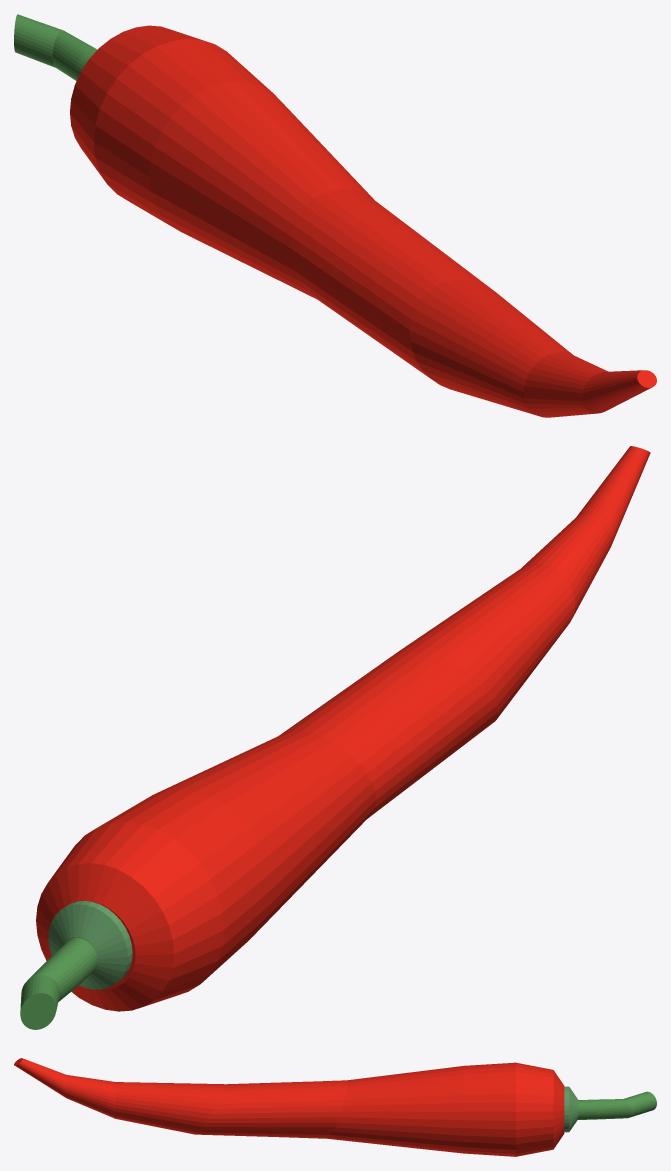
The model's file is cabe.fbx.
The picture shows the model from 3 angles, top to bottom: view 1: azimuth 30°, elevation 25°; view 2: azimuth 150°, elevation 25°; view 3: azimuth 270°, elevation 25°; orthographic projection. The views are drawn at different scales.
Parts seen in each view (by area): view 1: Cylinder, Cylinder.002; view 2: Cylinder, Cylinder.001, Cylinder.002; view 3: Cylinder, Cylinder.002, Cylinder.001.
Part boxes in pixels (bbox=[...]): Cylinder: bbox=[70, 25, 656, 417]; Cylinder.002: bbox=[14, 14, 97, 80]; Cylinder: bbox=[36, 446, 650, 1011]; Cylinder.001: bbox=[48, 901, 132, 989]; Cylinder.002: bbox=[20, 937, 97, 1029]; Cylinder: bbox=[14, 1058, 564, 1156]; Cylinder.002: bbox=[577, 1091, 656, 1119]; Cylinder.001: bbox=[564, 1086, 578, 1132].
Bounding box in the file's own units: 36.03 × 39.47 × 246.
